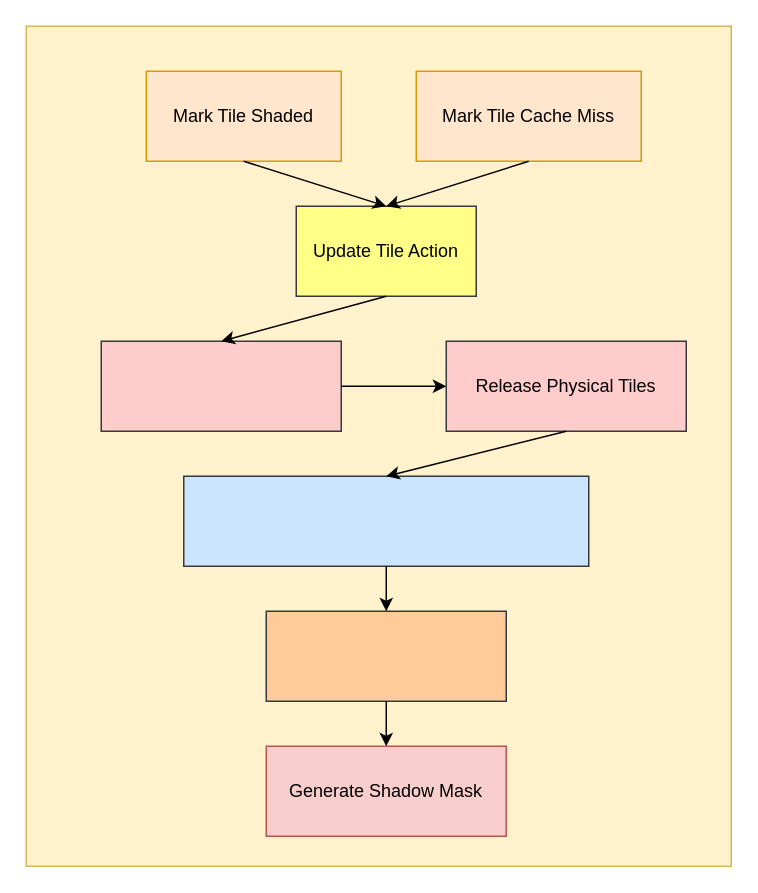
Some shapes in this 758 by 893 pixel diagram are drawn without their labels. The centre of each missing label's shape, as x and y in pixels:
Allocate Physical Tiles: pixel 220 385
Indirect Draw: pixel 385 655
Mesh Draw Commnad Culling: pixel 385 520
